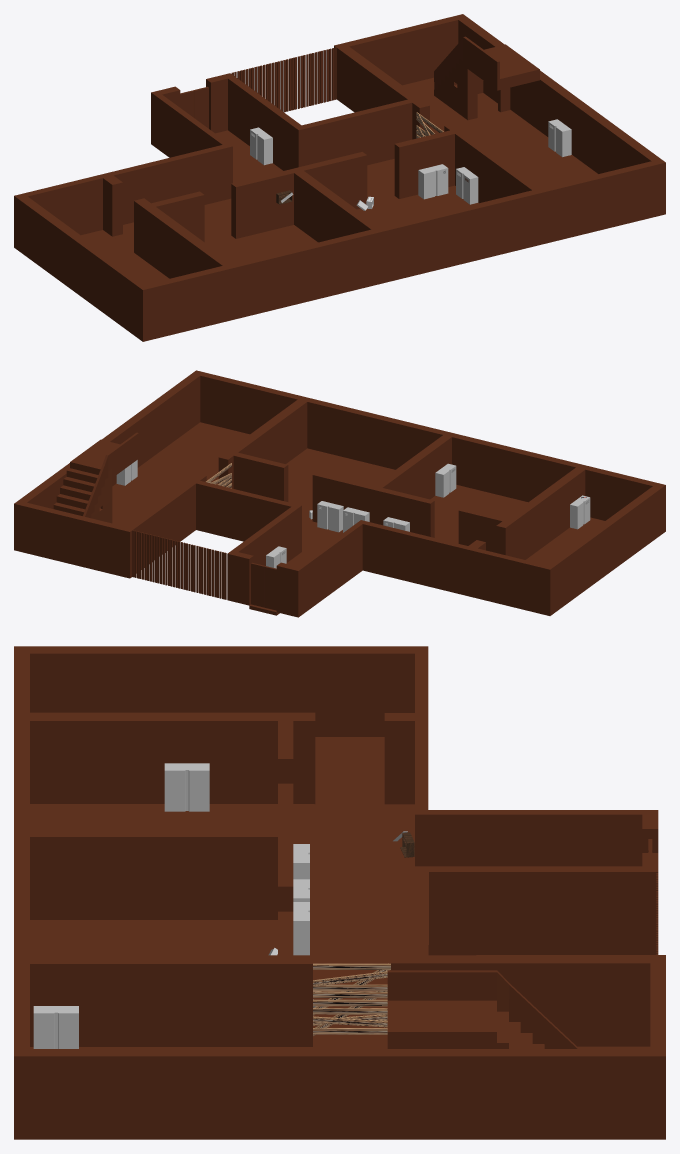
Rendered from prototipoOficina 1.fbx.
3 views of the same model, one above another, from view 1: azimuth 30°, elevation 25°; view 2: azimuth 150°, elevation 25°; view 3: azimuth 270°, elevation 25° (orthographic). The views are drawn at different scales.
Visible parts, largest first — view 1: plantaCasa, plantaCasa_Chao, escadas, cacifos.021; view 2: plantaCasa, plantaCasa_Chao, escadas, cacifos.013, cacifos.028, cacifos.015; view 3: plantaCasa, plantaCasa_Chao, escadas, tabuas, cacifos.017, cacifos.018, cacifos.029, cacifos.030, cacifos.027.
Boxes of the visible parts, x1,y1,x2,y2 form: plantaCasa: [14, 14, 665, 341]; plantaCasa_Chao: [81, 77, 597, 283]; escadas: [434, 36, 539, 120]; cacifos.021: [418, 167, 435, 199]; plantaCasa: [14, 370, 665, 617]; plantaCasa_Chao: [99, 422, 604, 566]; escadas: [53, 432, 138, 523]; cacifos.013: [435, 468, 449, 497]; cacifos.028: [328, 503, 343, 532]; cacifos.015: [570, 500, 583, 529]; plantaCasa: [14, 646, 665, 1139]; plantaCasa_Chao: [30, 737, 650, 1048]; escadas: [387, 970, 579, 1048]; tabuas: [313, 963, 390, 1036]; cacifos.017: [164, 763, 187, 811]; cacifos.018: [187, 763, 209, 811]; cacifos.029: [33, 1006, 56, 1048]; cacifos.030: [56, 1006, 78, 1048]; cacifos.027: [293, 911, 309, 955].
Size of the model in its own units: 4296 by 657 by 2887.
